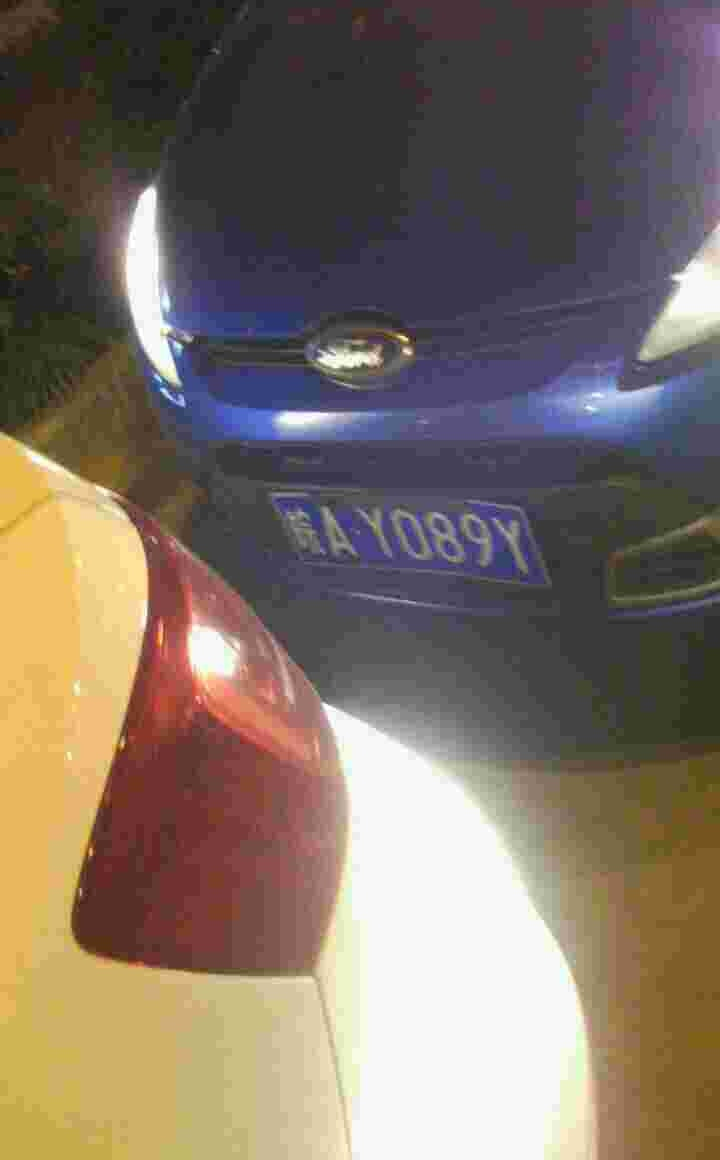plate: (262, 484, 559, 587)
